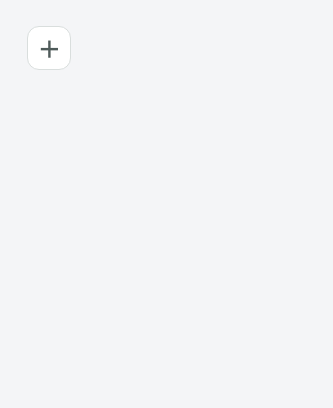
IconPicker › opens a grid, picks an emoji, and can clear it
Later steps or results of the test are not shown.
Click the button named "Icon".
click(49, 48)  # box [27,26,71,70]
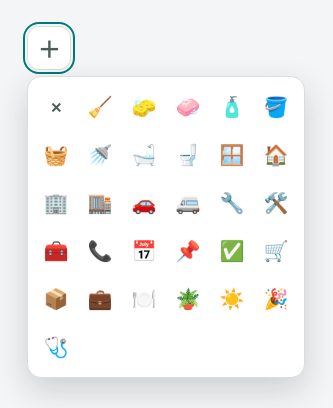
Click the button "🧹".
click(100, 107)  # box [80,85,120,129]
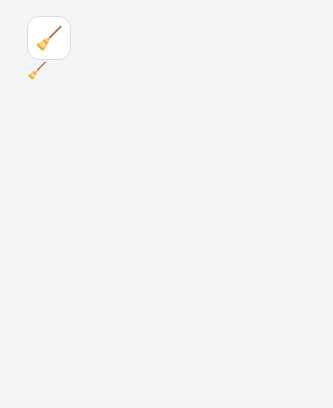
Expected: the text with test id "icon" reads "🧹", [27,60,47,80]
